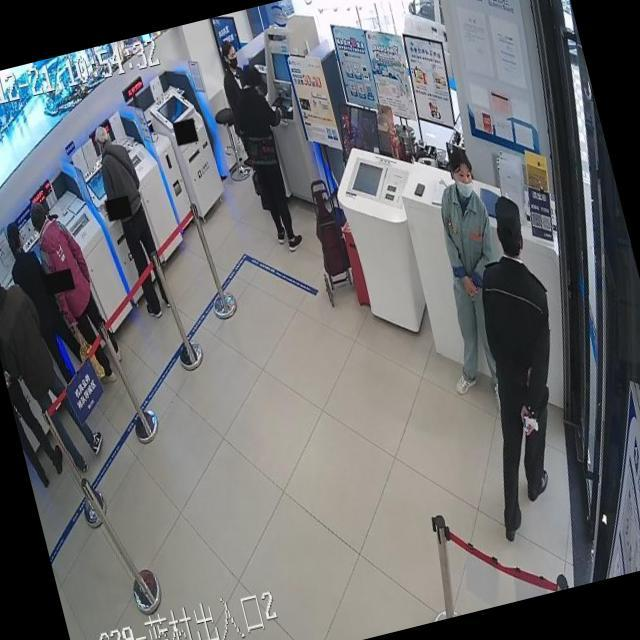person: (426, 188, 602, 536), (400, 144, 532, 403), (0, 244, 106, 489), (25, 190, 127, 392), (222, 54, 315, 257), (88, 116, 174, 322), (0, 213, 89, 392), (0, 262, 67, 484), (0, 289, 67, 486), (302, 178, 360, 302), (10, 392, 52, 492), (213, 40, 254, 122)
